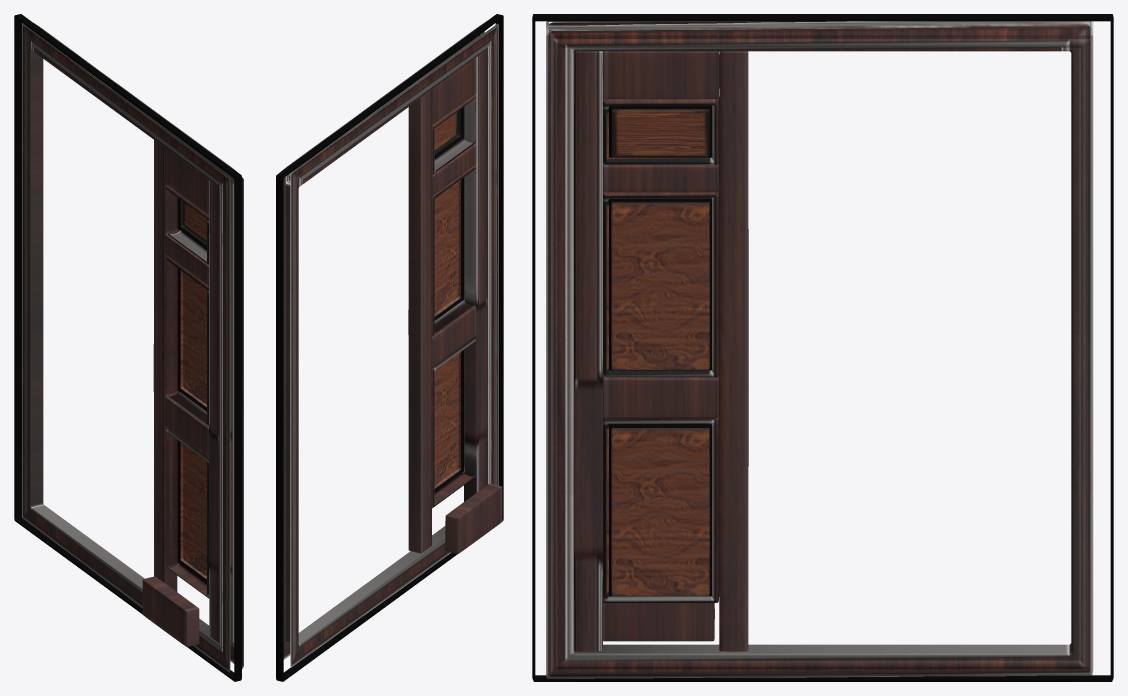
Rendered from marco.obj.
3 views of the same model, side by side, from view 1: azimuth 30°, elevation 25°; view 2: azimuth 150°, elevation 25°; view 3: azimuth 270°, elevation 25° (orthographic). The views are drawn at different scales.
Parts seen in each view (by area): view 1: polySurface145; view 2: polySurface145; view 3: polySurface145.
Boxes of the visible parts, box(x1,y1,x2,y2) form: polySurface145: box(14, 14, 243, 681); polySurface145: box(276, 14, 503, 681); polySurface145: box(532, 14, 1113, 681).
Bounding box in the file's own units: 2.93 × 35.03 × 27.79.
4 materials, 3 textured.
